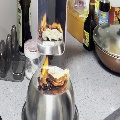fire: (40, 57, 69, 88)
